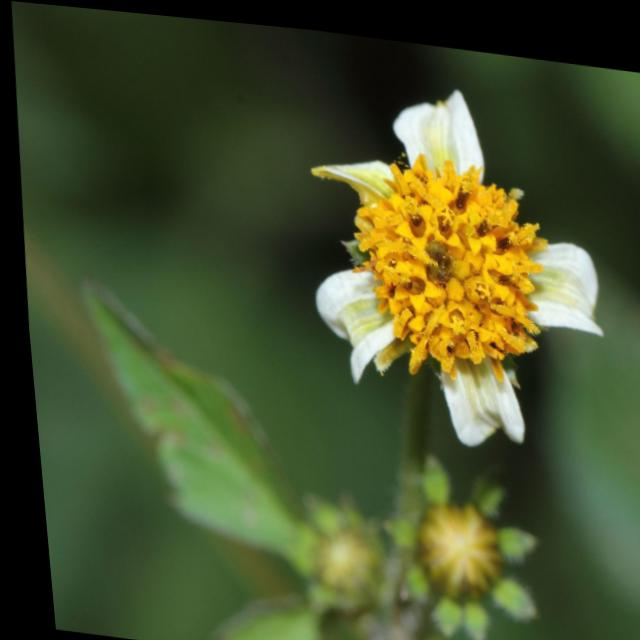Flower: (284, 70, 617, 442)
